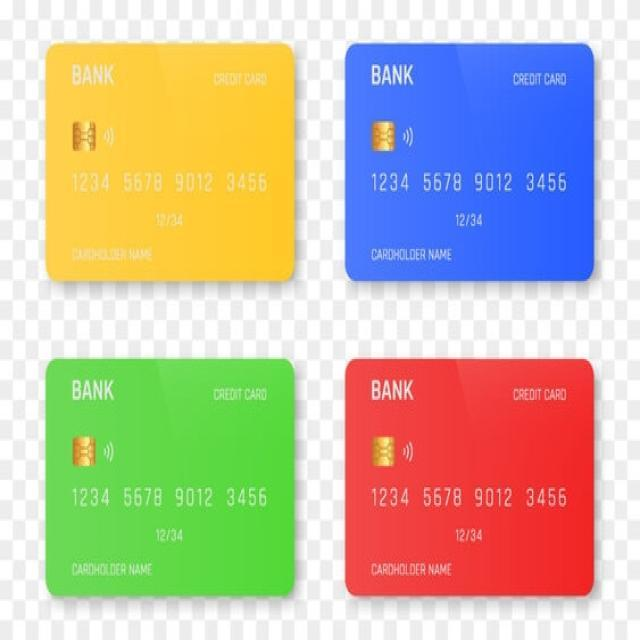payment_card: (343, 40, 596, 282), (44, 356, 296, 598), (44, 40, 295, 282), (344, 356, 595, 597)
